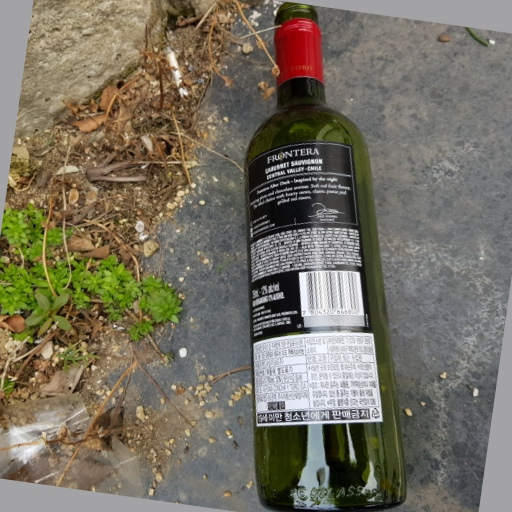Glass_2: (244, 3, 407, 512)
